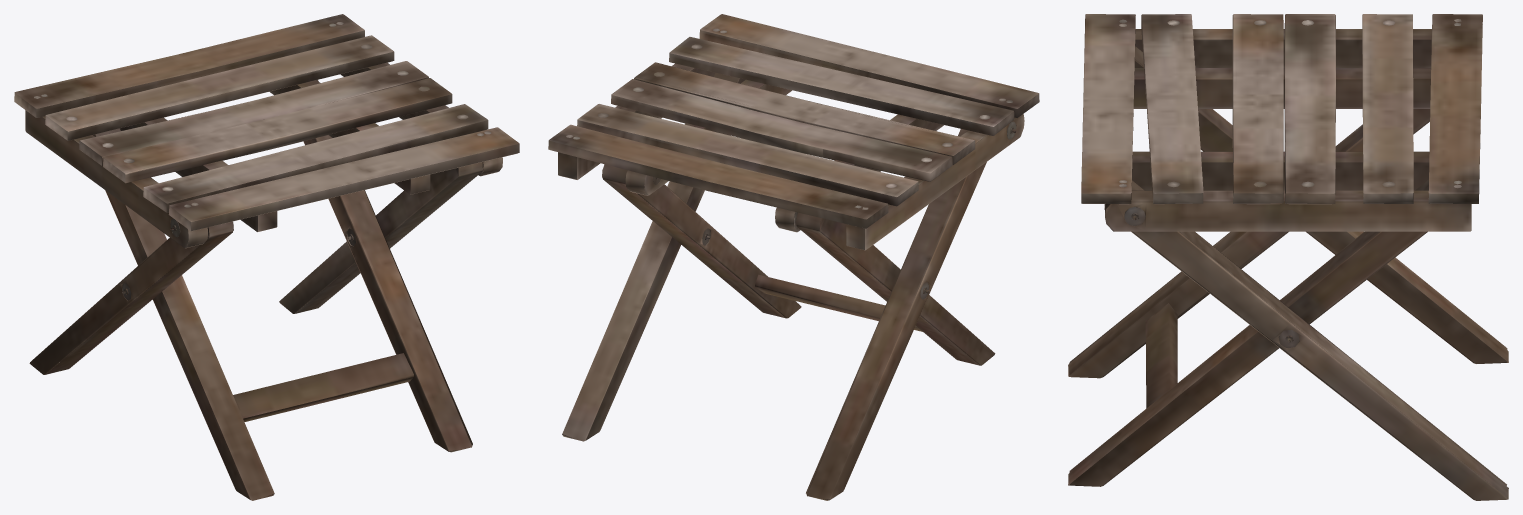
File: stool_folding.glb
3 views of the same model, side by side, from view 1: azimuth 30°, elevation 25°; view 2: azimuth 150°, elevation 25°; view 3: azimuth 270°, elevation 25° (orthographic). The views are drawn at different scales.
Parts seen in each view (by area): view 1: folding_wooden_stool; view 2: folding_wooden_stool; view 3: folding_wooden_stool.
Boxes of the visible parts, x1=… form: folding_wooden_stool: x1=14, y1=14, x2=519, y2=500; folding_wooden_stool: x1=548, y1=14, x2=1039, y2=500; folding_wooden_stool: x1=1068, y1=14, x2=1508, y2=500.
Bounding box in the file's own units: 0.527 × 0.4407 × 0.5461.
1 material, 1 textured.
